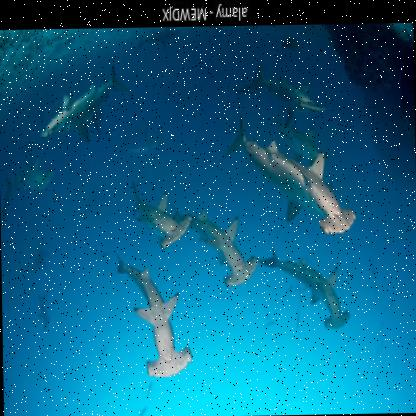hammerhead_Shark: (27, 49, 370, 387)
